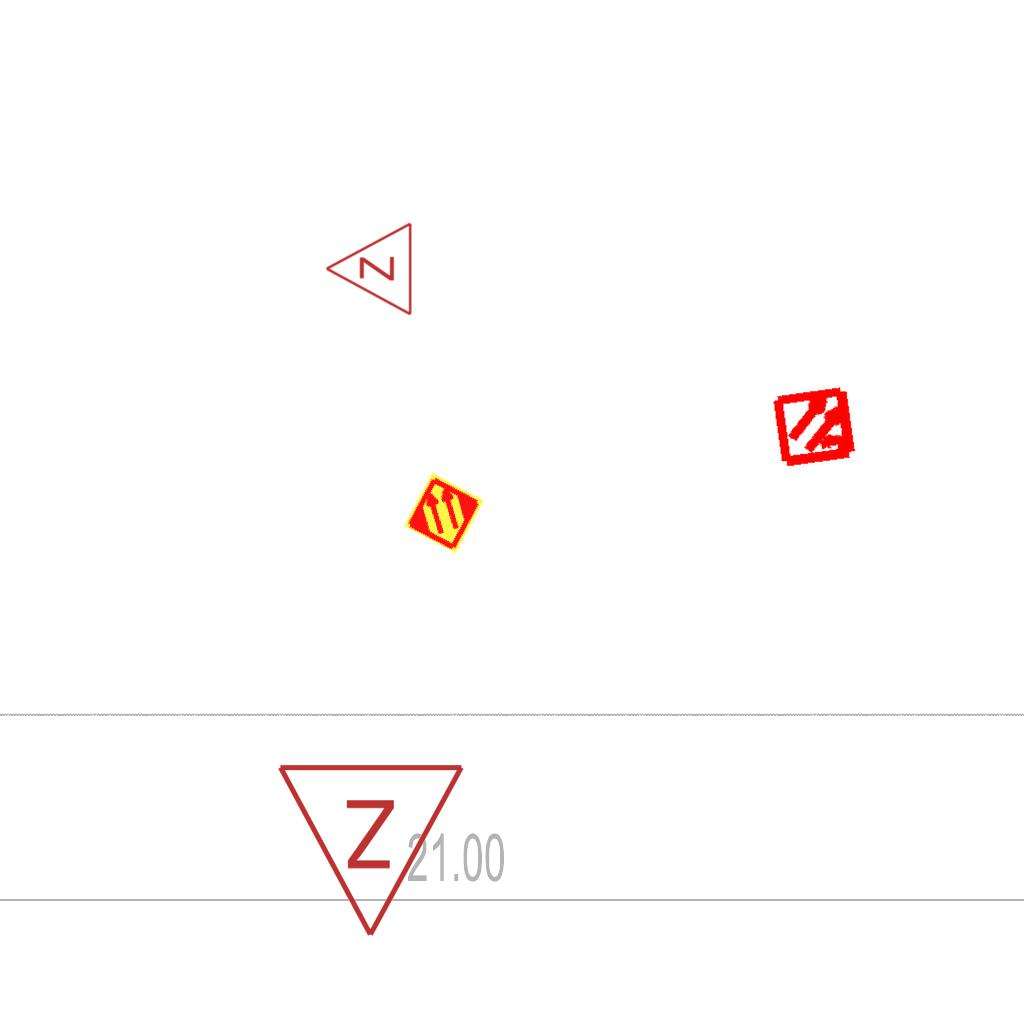ASR_Ansaugrauchmelder: (402, 471, 486, 555)
OT_Multisensormelder_(Kombination_RMO_WMD): (752, 362, 881, 491)
Zimmersignalleuchte: (275, 750, 471, 950), (319, 221, 419, 319)
